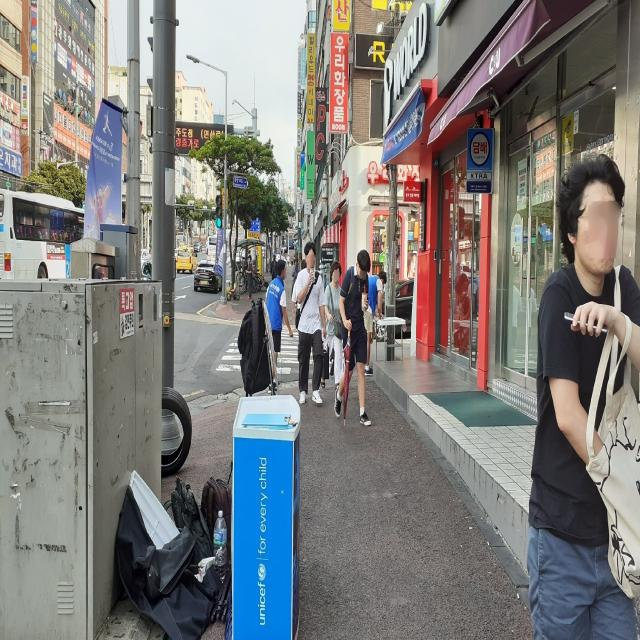횡단보도: (215, 329, 334, 375)
